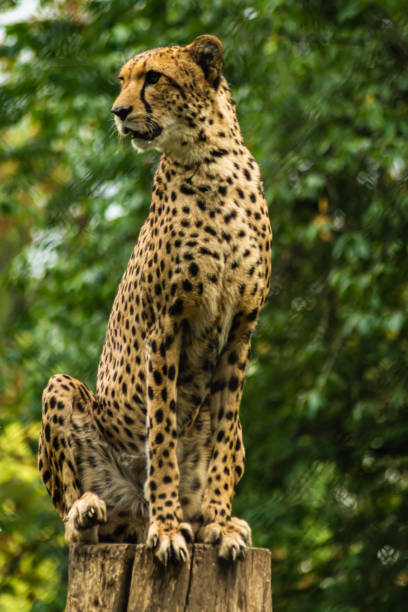cheetah: (95, 26, 238, 167)
